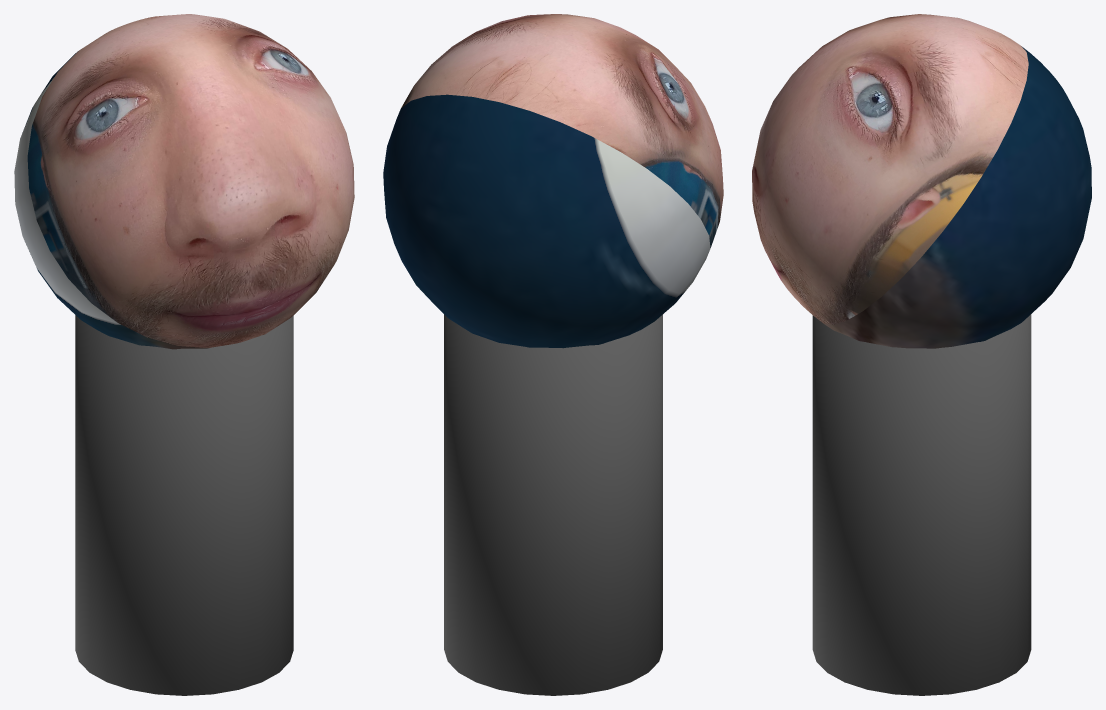
Rendered from Zuschauer.fbx.
3 renders of one model, left to right at view 1: azimuth 30°, elevation 25°; view 2: azimuth 150°, elevation 25°; view 3: azimuth 270°, elevation 25°, orthographic.
Visible parts, largest first — view 1: Cylinder.001; view 2: Cylinder.001; view 3: Cylinder.001.
Boxes of the visible parts, bbox=[...] form: Cylinder.001: bbox=[14, 14, 354, 695]; Cylinder.001: bbox=[383, 14, 723, 695]; Cylinder.001: bbox=[752, 14, 1091, 695].
Size of the model in its own units: 200 by 401 by 199.
Materials: 2 (1 with a texture image).
